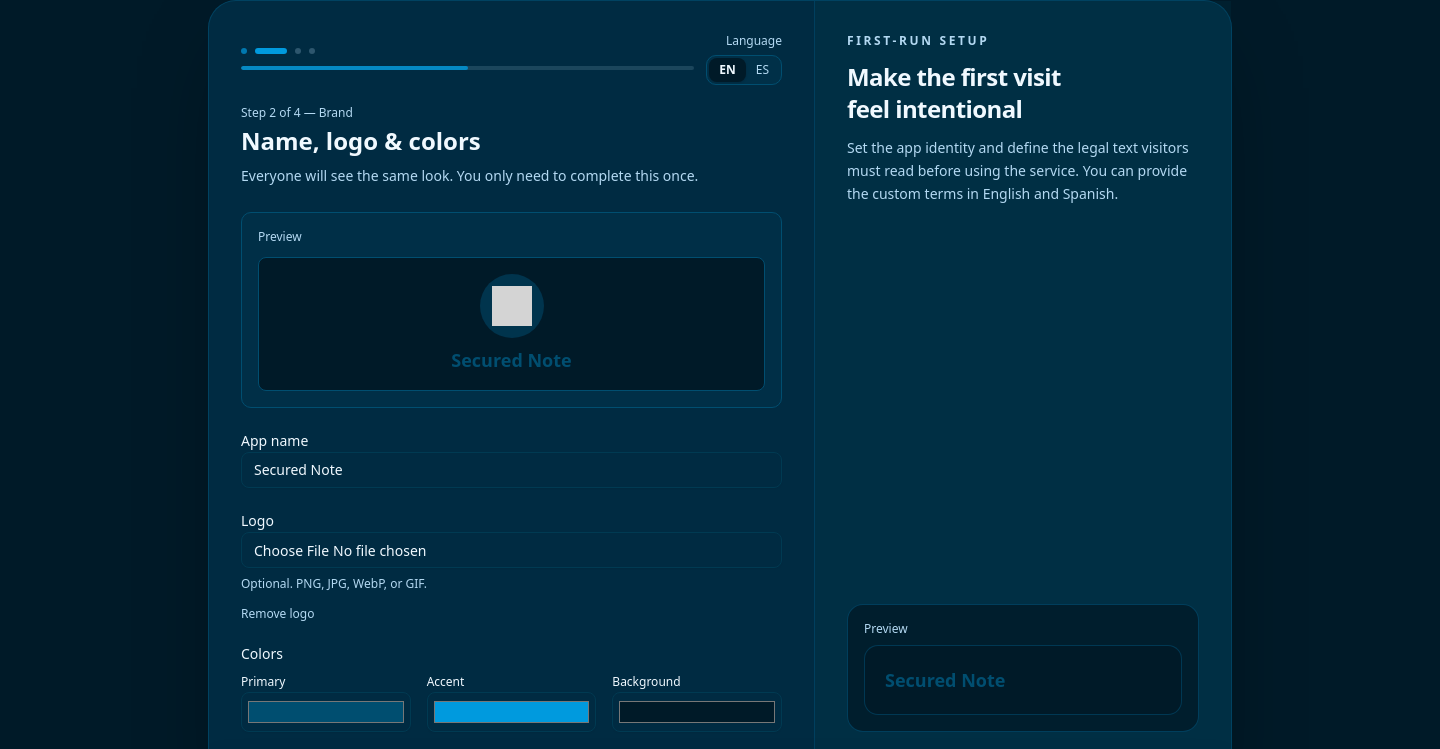
Test: ProjectSetupModal › uploads and removes a logo successfully
Earlier steps of the test are not shown.
Click the button "Remove logo". click: (278, 614)
box: [241, 606, 314, 622]
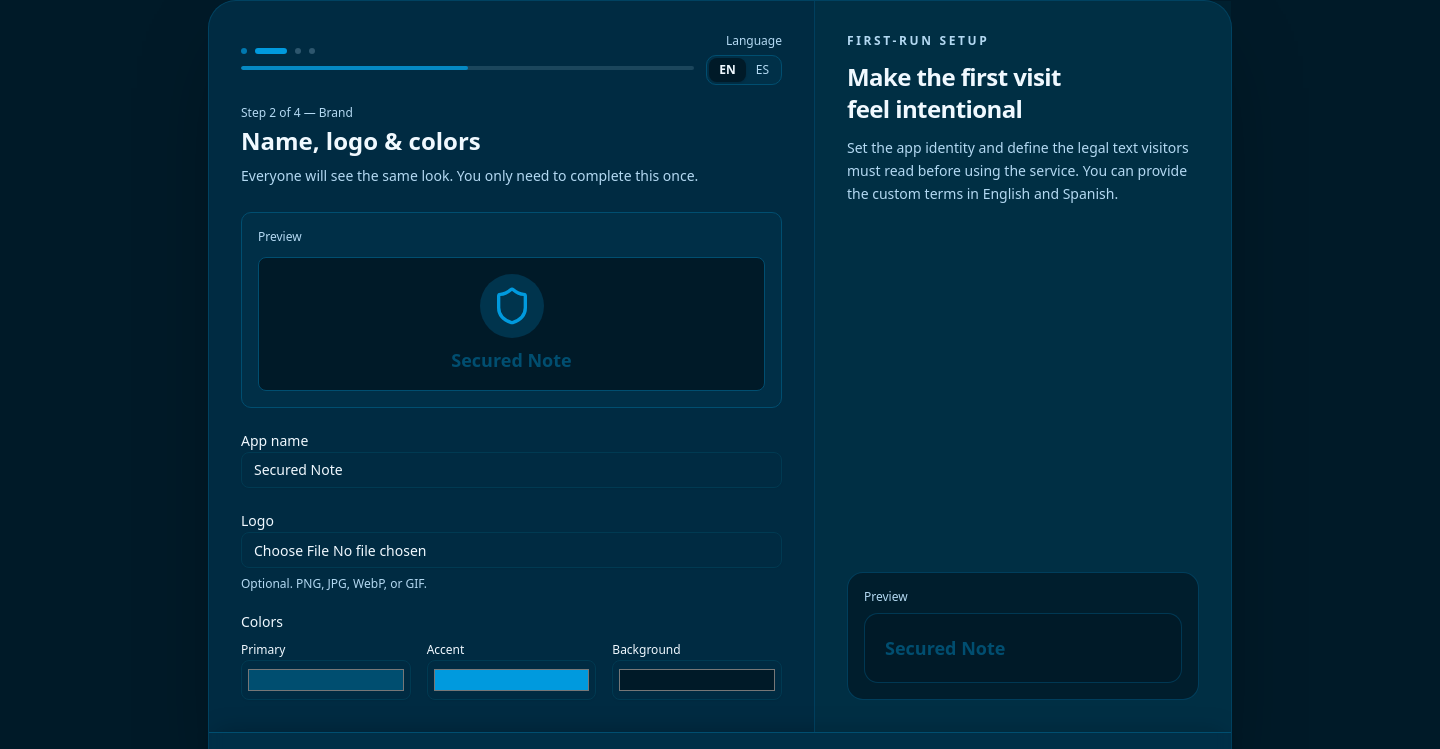
Expected: the button "Remove logo" is gone
